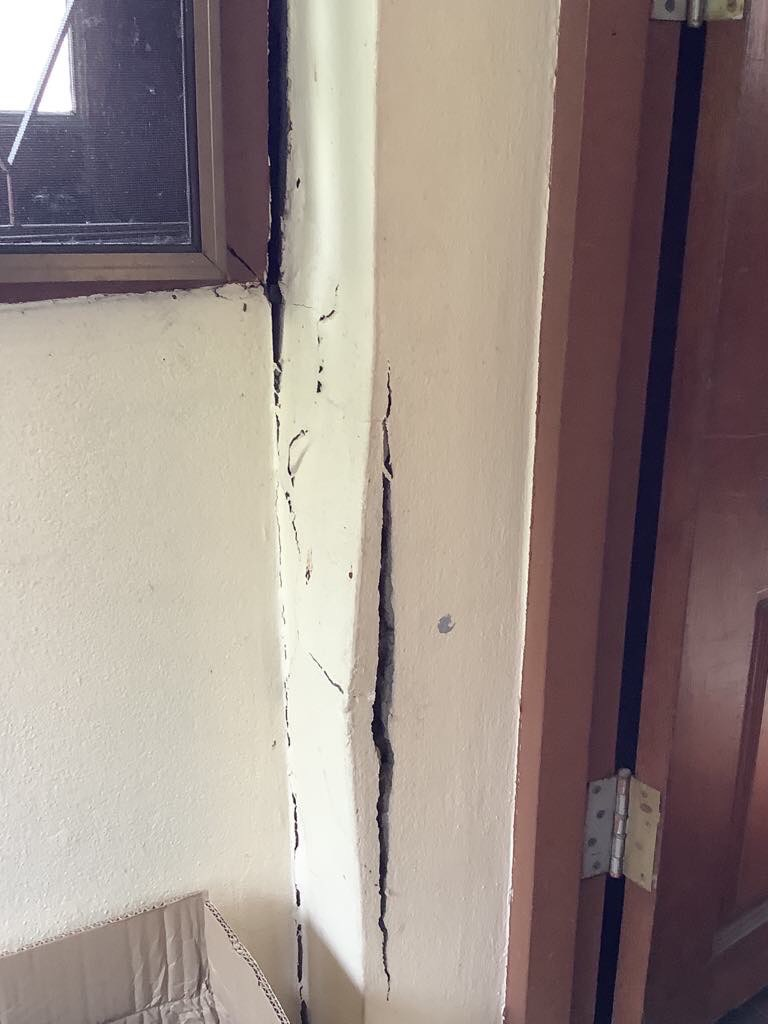High: (238, 4, 432, 1024)
